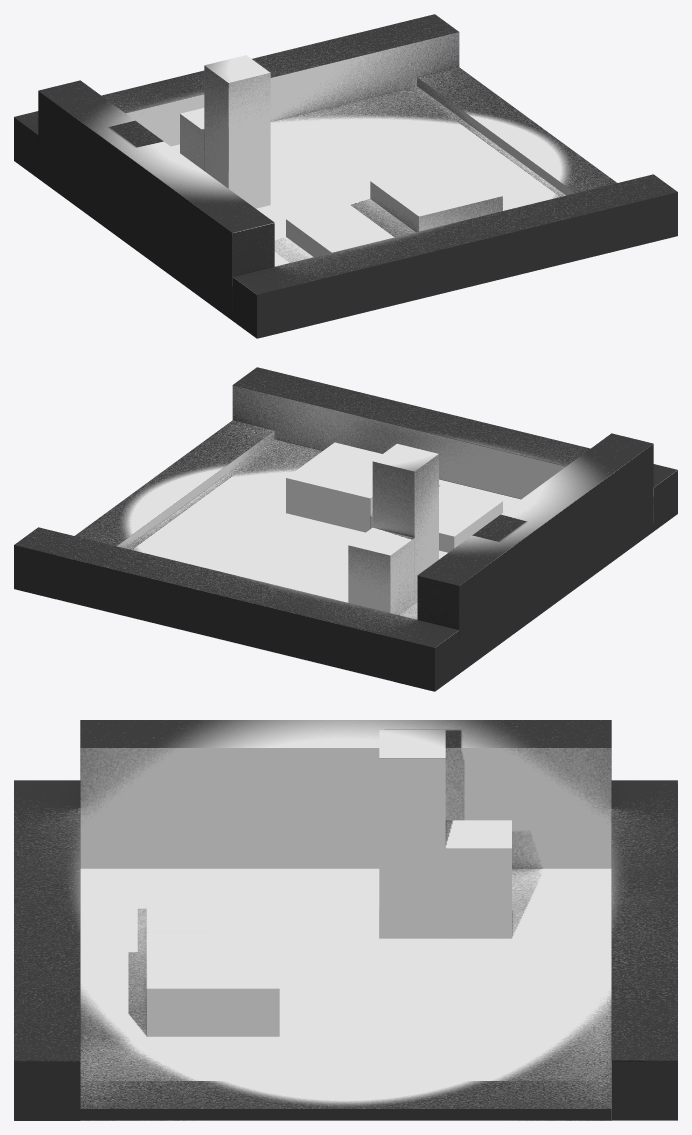
The model's file is simple10x10_high.dae.
3 renders of one model, top to bottom at view 1: azimuth 30°, elevation 25°; view 2: azimuth 150°, elevation 25°; view 3: azimuth 270°, elevation 25°, orthographic. The views are drawn at different scales.
Parts seen in each view (by area): view 1: simple_world1; view 2: simple_world1; view 3: simple_world1.
Part boxes in pixels (box(x1,y1,x2,y2)): simple_world1: box(14, 14, 677, 338); simple_world1: box(14, 367, 677, 691); simple_world1: box(14, 720, 677, 1120).
Bounding box in the file's own units: 10 × 10 × 3.
Materials: 1 (1 with a texture image).
